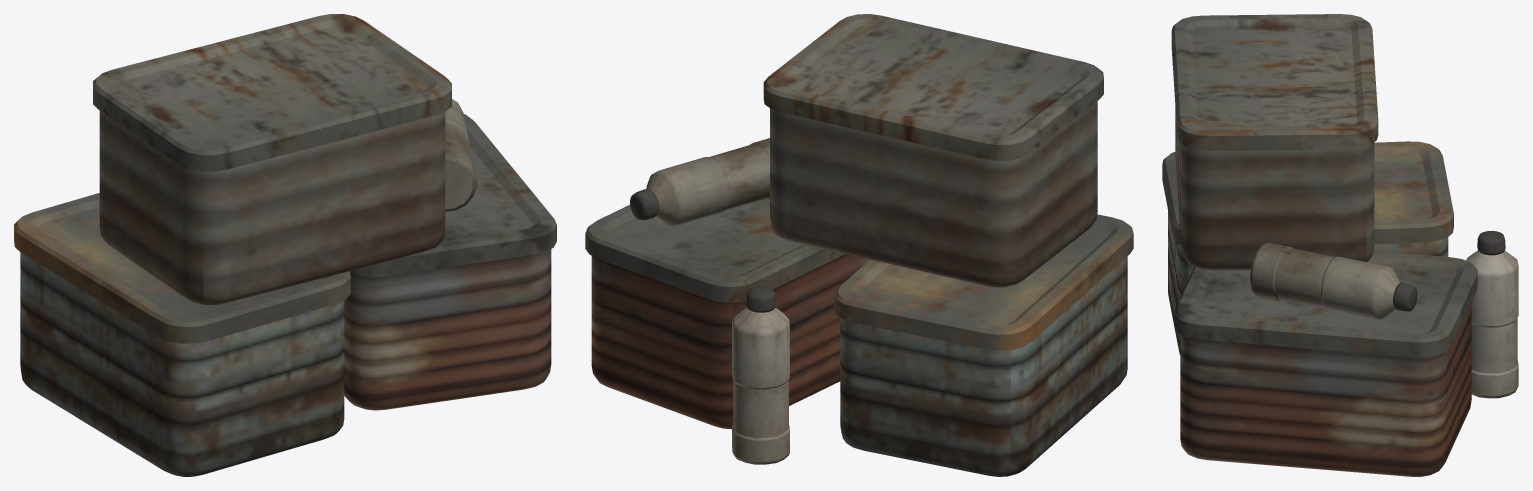
The model's file is prop_small_011.glb.
3 renders of one model, left to right at view 1: azimuth 30°, elevation 25°; view 2: azimuth 150°, elevation 25°; view 3: azimuth 270°, elevation 25°, orthographic. The views are drawn at different scales.
Parts seen in each view (by area): view 1: Building_12_017; view 2: Building_12_017; view 3: Building_12_017.
Boxes of the visible parts, left/top/right/bottom form: Building_12_017: left=14, top=14, right=556, bottom=476; Building_12_017: left=585, top=14, right=1133, bottom=476; Building_12_017: left=1162, top=14, right=1518, bottom=476.
Size of the model in its own units: 0.8 by 0.5402 by 0.6042.
Materials: 1 (1 with a texture image).
